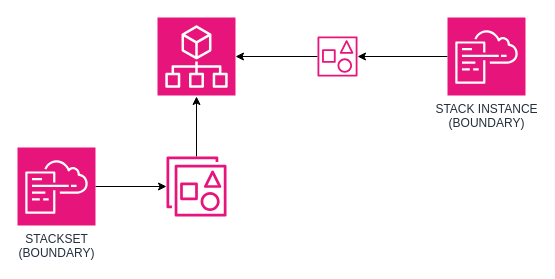
Some shapes in this 555 by 279 pixel diagram are drawn without their labels. The centre of each missing label's shape, as x and y in pixels:
MANAGEMENT: point 337,56
ROOT: point 196,186
